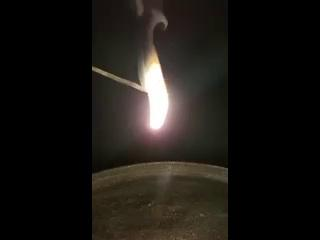Fire: (139, 49, 171, 132)
